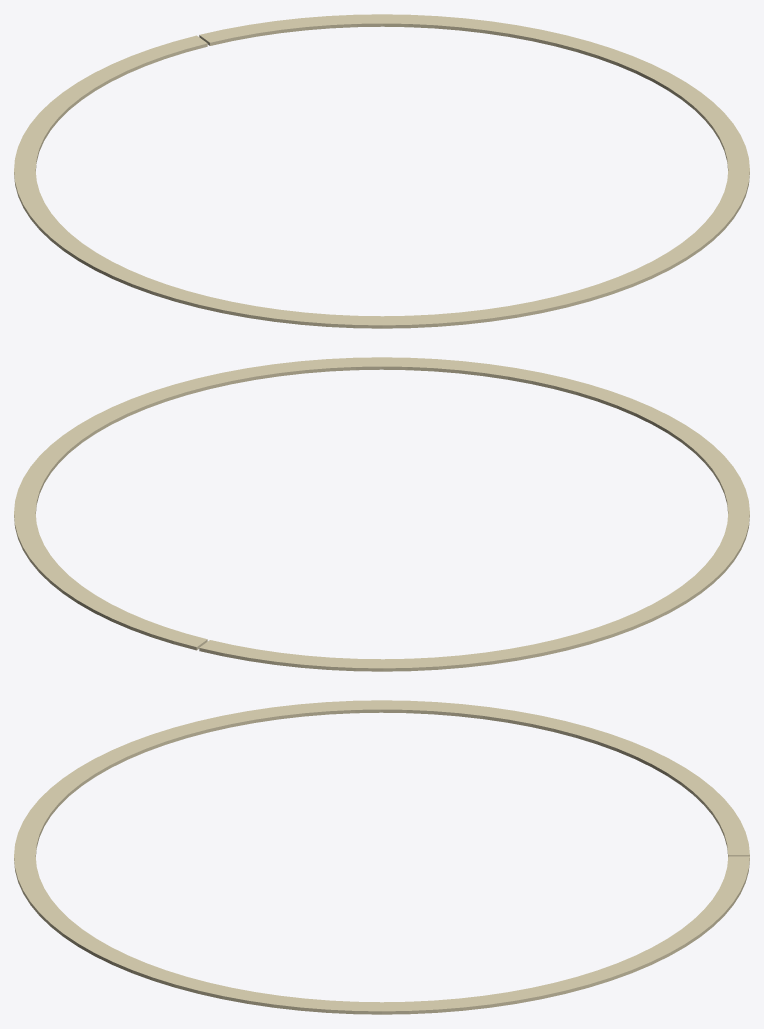
Rendered from oil-rail.glb.
3 renders of one model, top to bottom at view 1: azimuth 30°, elevation 25°; view 2: azimuth 150°, elevation 25°; view 3: azimuth 270°, elevation 25°, orthographic.
Visible parts, largest first — view 1: oil-rail; view 2: oil-rail; view 3: oil-rail.
Boxes of the visible parts, x1,y1,x2,y2 form: oil-rail: (14,14,749,328); oil-rail: (14,357,749,671); oil-rail: (14,700,749,1014).
Bounding box in the file's own units: 0.1016 × 0.0005 × 0.1016.
